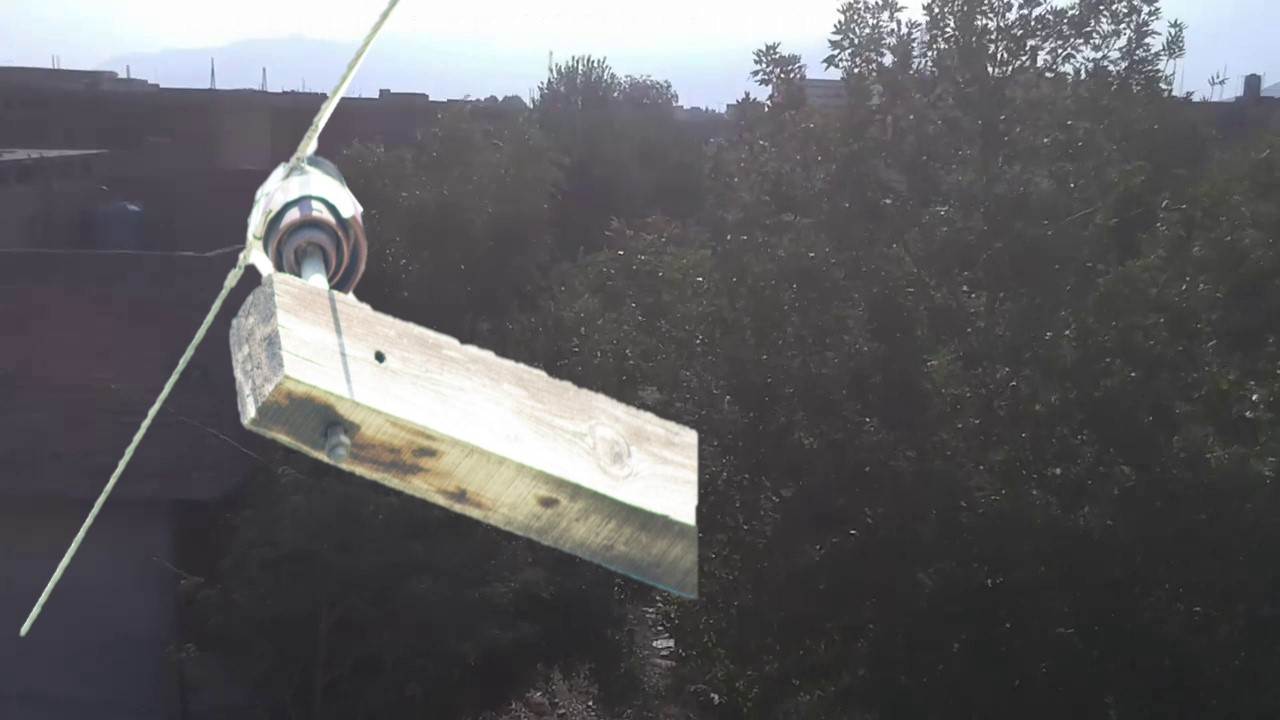defect_pin: (239, 148, 372, 294)
